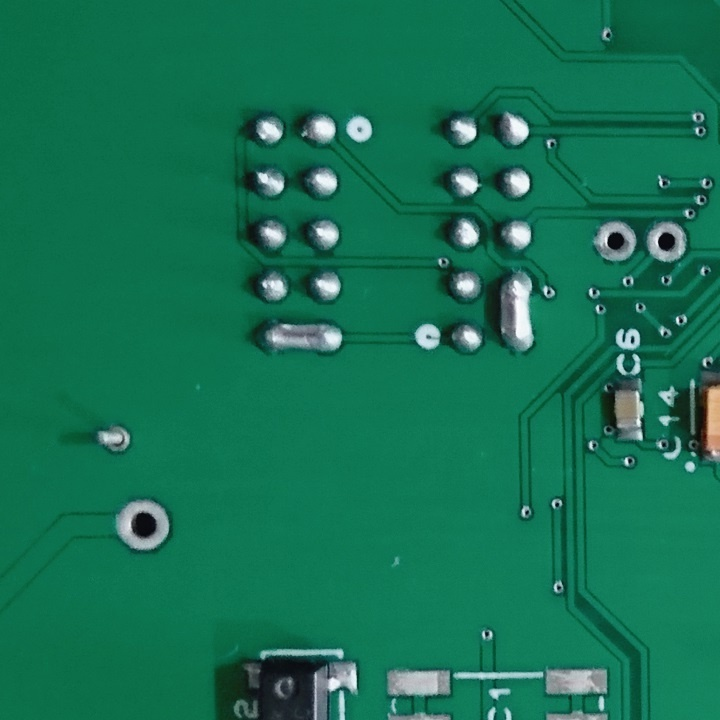F: (109, 494, 173, 560), (642, 218, 690, 266), (590, 218, 641, 263), (90, 419, 132, 460)
P: (252, 315, 347, 359), (493, 266, 538, 357)
